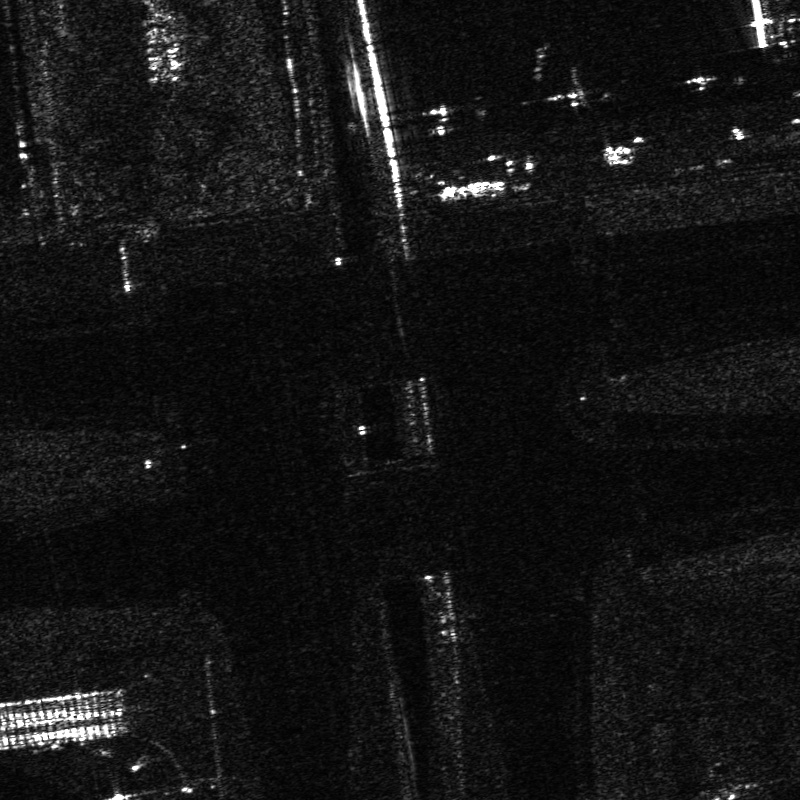Boeing787: (693, 1, 799, 49)
